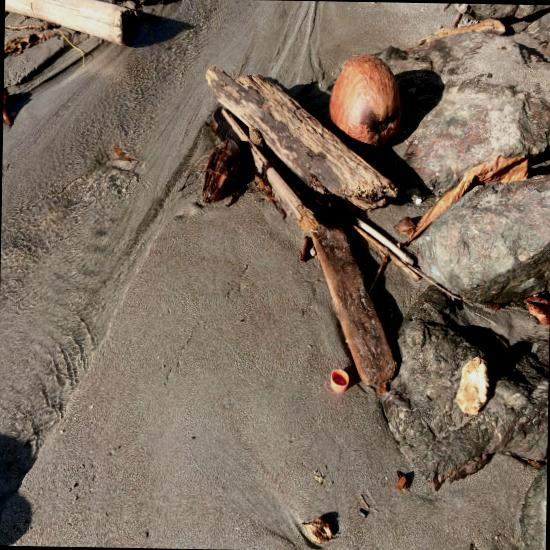Plastic bottle cap: (330, 369, 348, 392)
